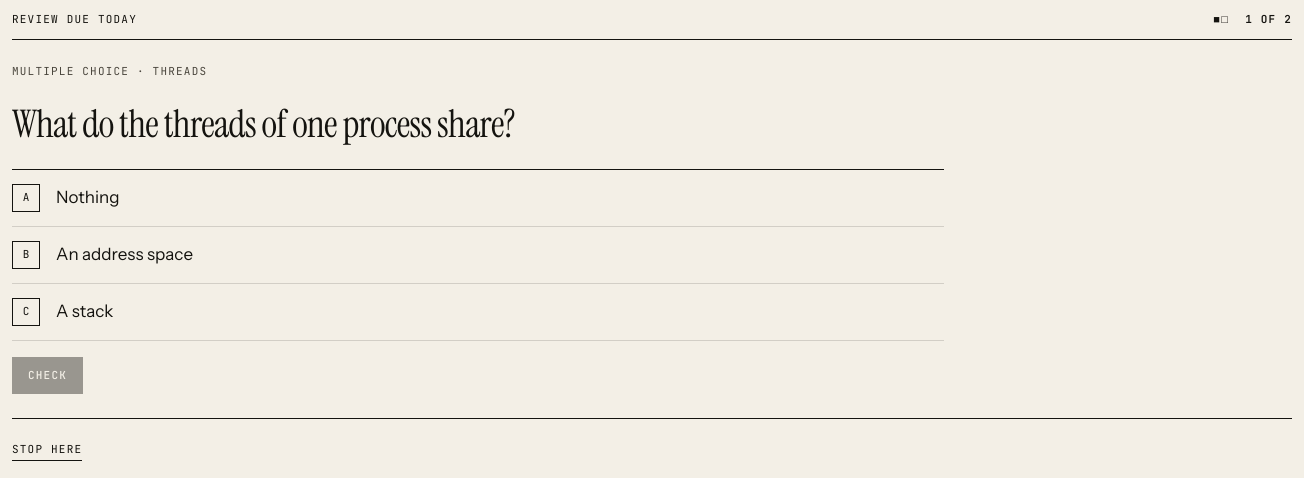
PracticeSession › ends with what the answers mean for the next reviews
This screenshot has width=1304, height=478.
Later steps or results of the test are not shown.
Step 1. Click the radio button labelled "An address space" → (124, 254), box left=12, top=227, right=944, bottom=284
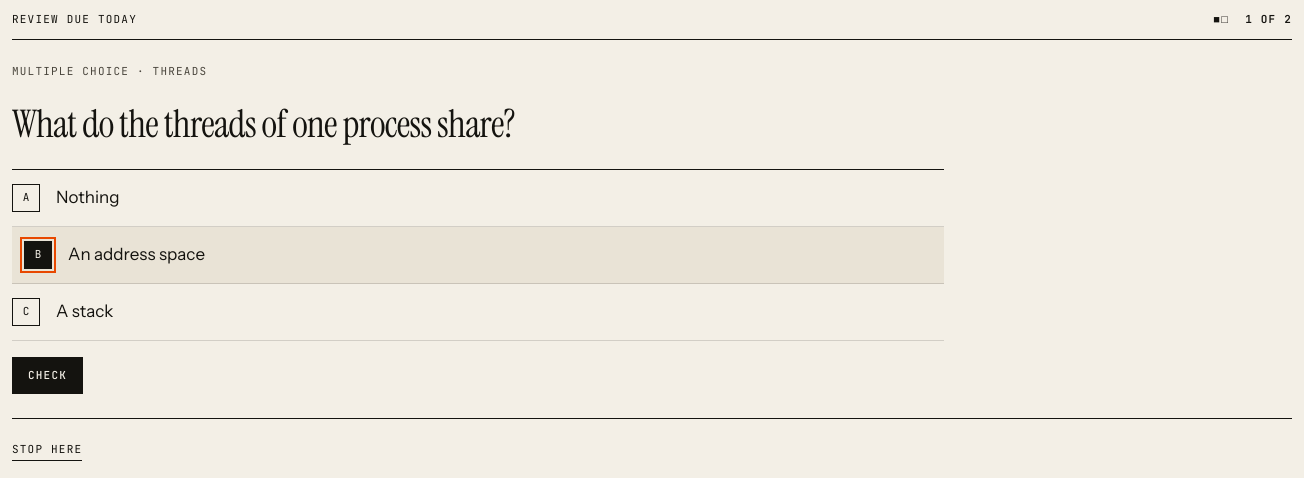
Step 2. Click the button "Check" → (48, 376), box left=12, top=357, right=83, bottom=394
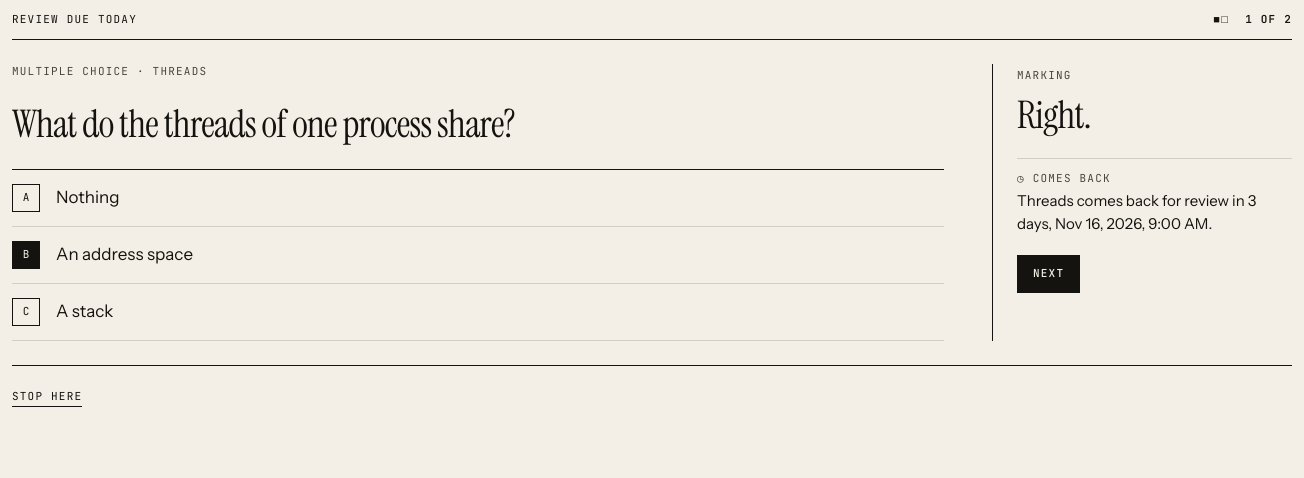
Check: the message shows "Right.", box left=1017, top=90, right=1091, bottom=140
Step 3. Click the button "Next" → (1049, 274), box left=1017, top=255, right=1080, bottom=293
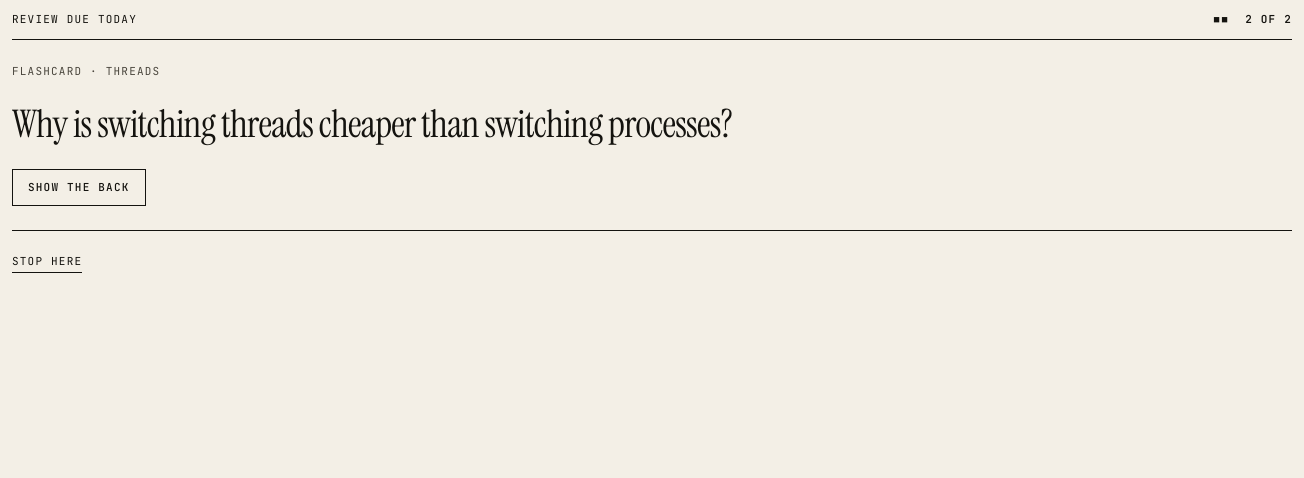
Check: the text "2 of 2" is shown, box left=1245, top=12, right=1292, bottom=27
Step 4. Click the button "Show the back" → (79, 188), box left=12, top=169, right=146, bottom=206
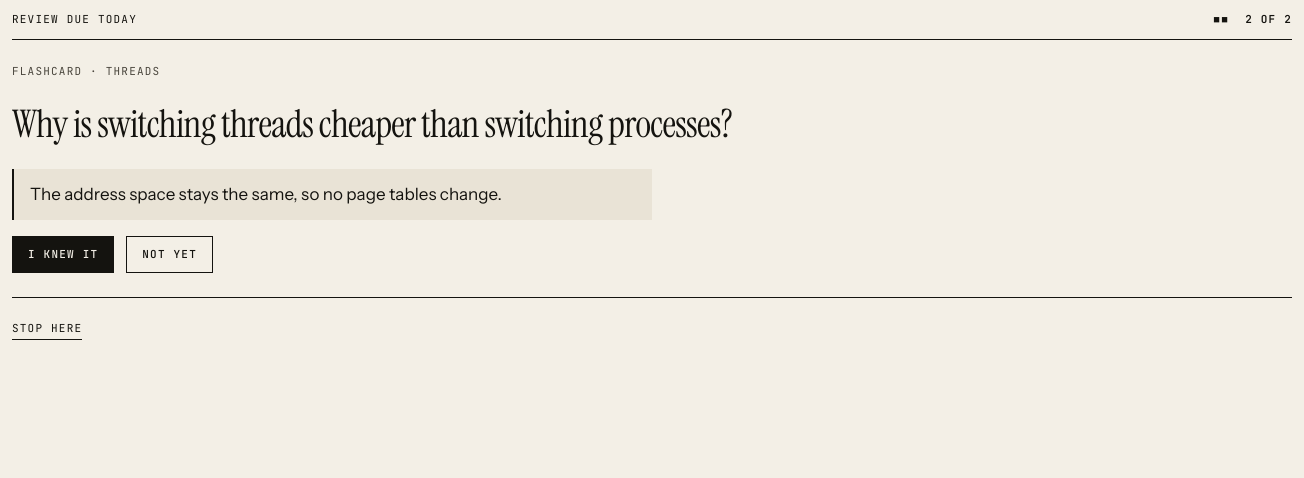
Step 5. Click the button "Not yet" → (170, 255), box left=126, top=236, right=213, bottom=273
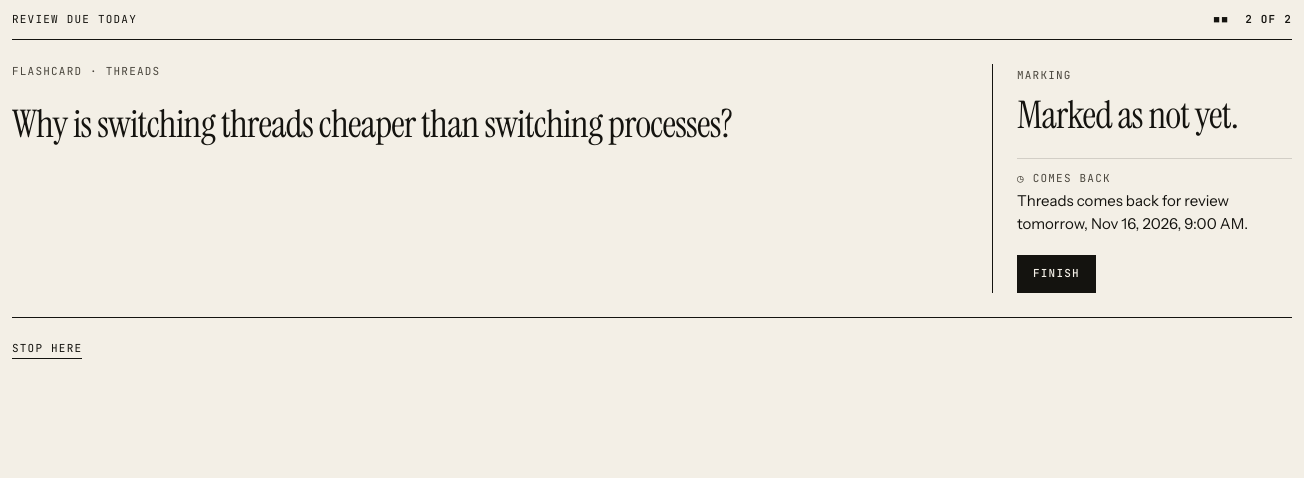
Check: the message is shown, box left=992, top=64, right=1292, bottom=293
Step 6. Click the button "Finish" → (1056, 274), box left=1017, top=255, right=1096, bottom=293
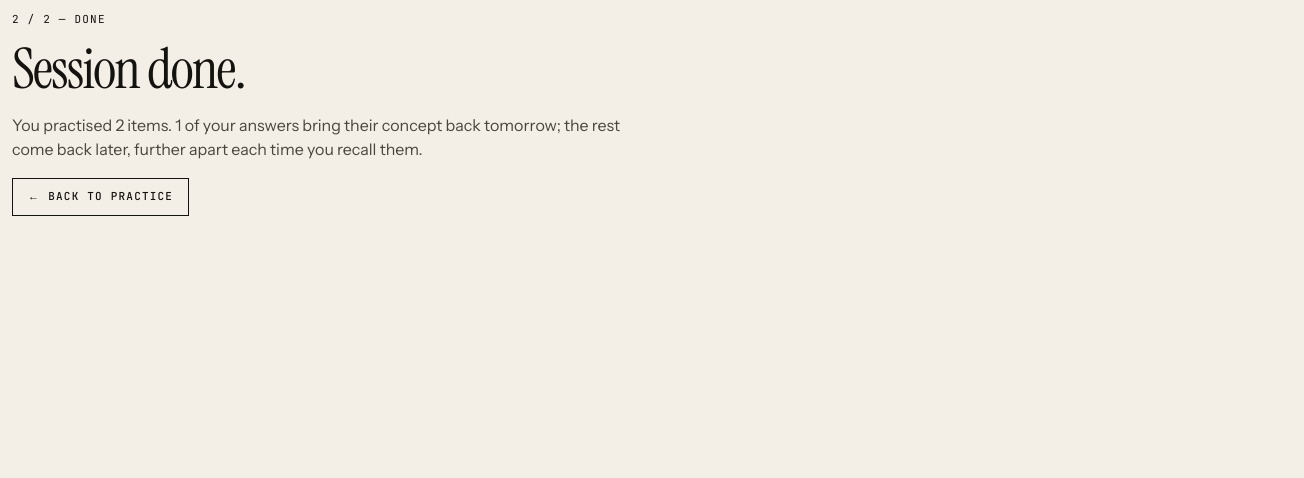
Check: the heading "Session done." is shown, box left=12, top=43, right=245, bottom=97
Check: the text "1 of your answers bring their concept back tomorrow; the rest come back later, further apart each time you recall them." is shown, box left=12, top=115, right=620, bottom=159
